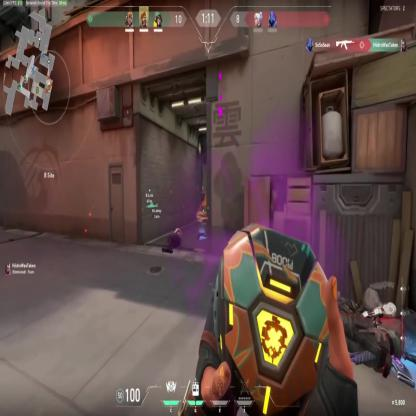enemy: (200, 184, 205, 215)
enemy_head: (202, 184, 204, 192)
